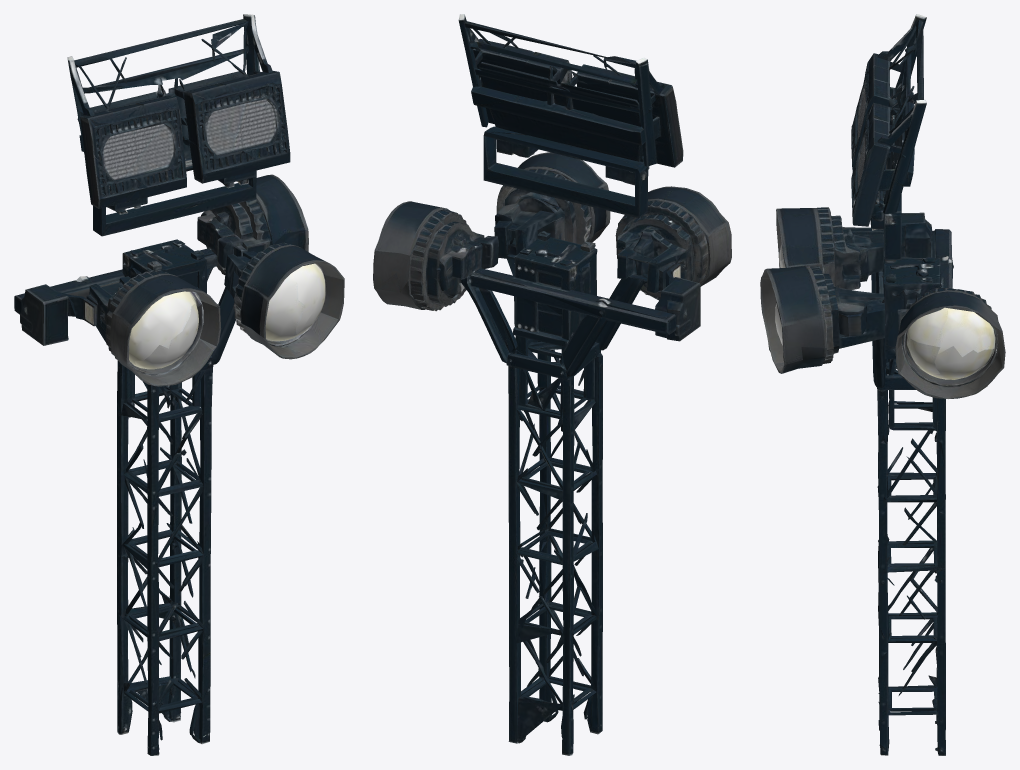
The model's file is floodlightTower.bfbd3320.glb.
3 renders of one model, left to right at view 1: azimuth 30°, elevation 25°; view 2: azimuth 150°, elevation 25°; view 3: azimuth 270°, elevation 25°, orthographic. The views are drawn at different scales.
Parts seen in each view (by area): view 1: output_unwrapped; view 2: output_unwrapped; view 3: output_unwrapped.
Part boxes in pixels (left/top/right/bottom): output_unwrapped: left=14, top=14, right=344, bottom=755; output_unwrapped: left=373, top=14, right=731, bottom=755; output_unwrapped: left=760, top=14, right=1005, bottom=755.
Size of the model in its own units: 0.7745 by 1.9 by 0.6176.
Materials: 1 (1 with a texture image).
